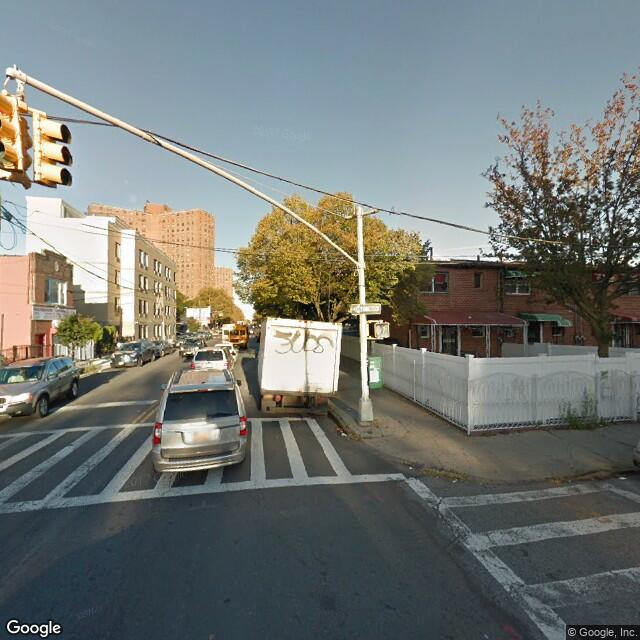litter: (340, 430, 348, 436), (449, 477, 457, 482), (618, 474, 624, 480), (408, 464, 412, 469)
